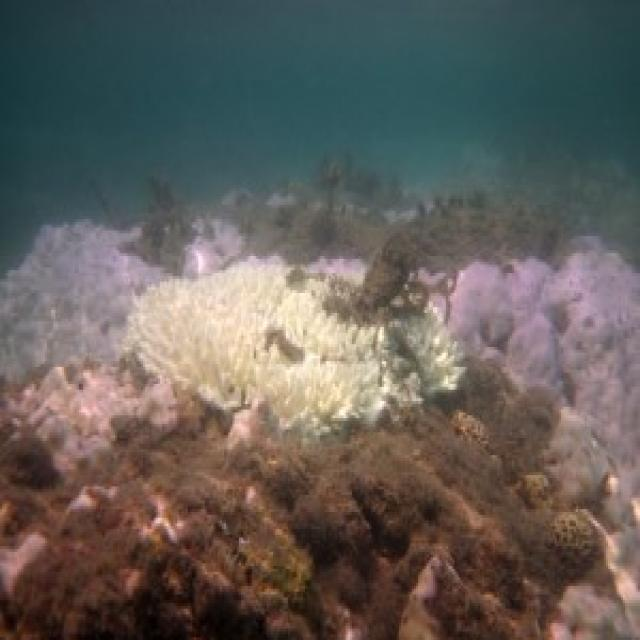Bleached: (127, 263, 421, 433), (197, 194, 387, 283), (266, 280, 385, 359), (396, 303, 464, 394)
Healthy: (451, 251, 639, 476), (1, 220, 163, 374)
